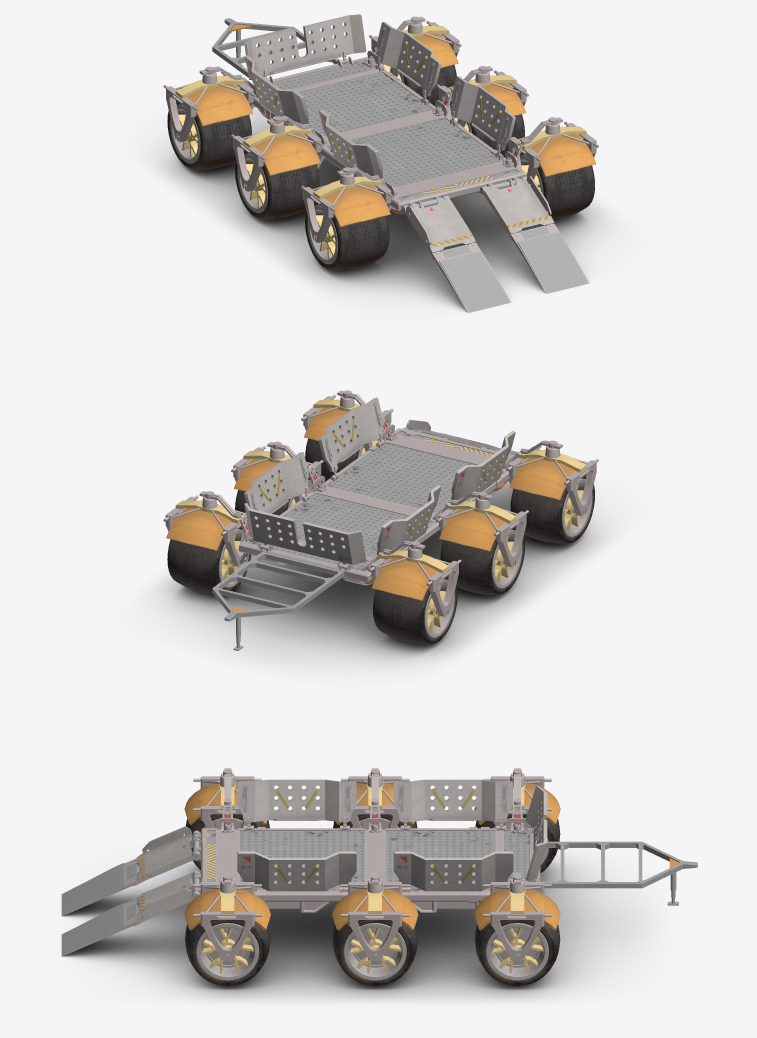
The model's file is mars-rover.glb.
3 views of the same model, one above another, from view 1: azimuth 30°, elevation 25°; view 2: azimuth 150°, elevation 25°; view 3: azimuth 270°, elevation 25° (orthographic). The views are drawn at different scales.
Parts seen in each view (by area): view 1: mars_rover, Sketchfab Floor_sketchfab_floor_0; view 2: mars_rover, Sketchfab Floor_sketchfab_floor_0; view 3: mars_rover, Sketchfab Floor_sketchfab_floor_0.
Boxes of the visible parts, left/top/right/bottom form: mars_rover: left=163, top=14, right=598, bottom=312; Sketchfab Floor_sketchfab_floor_0: left=143, top=107, right=622, bottom=312; mars_rover: left=163, top=390, right=598, bottom=650; Sketchfab Floor_sketchfab_floor_0: left=143, top=447, right=622, bottom=674; mars_rover: left=61, top=768, right=697, bottom=985; Sketchfab Floor_sketchfab_floor_0: left=62, top=850, right=659, bottom=1003.
Size of the model in its own units: 228584 by 59603 by 357952.
Materials: 2 (2 with a texture image).
